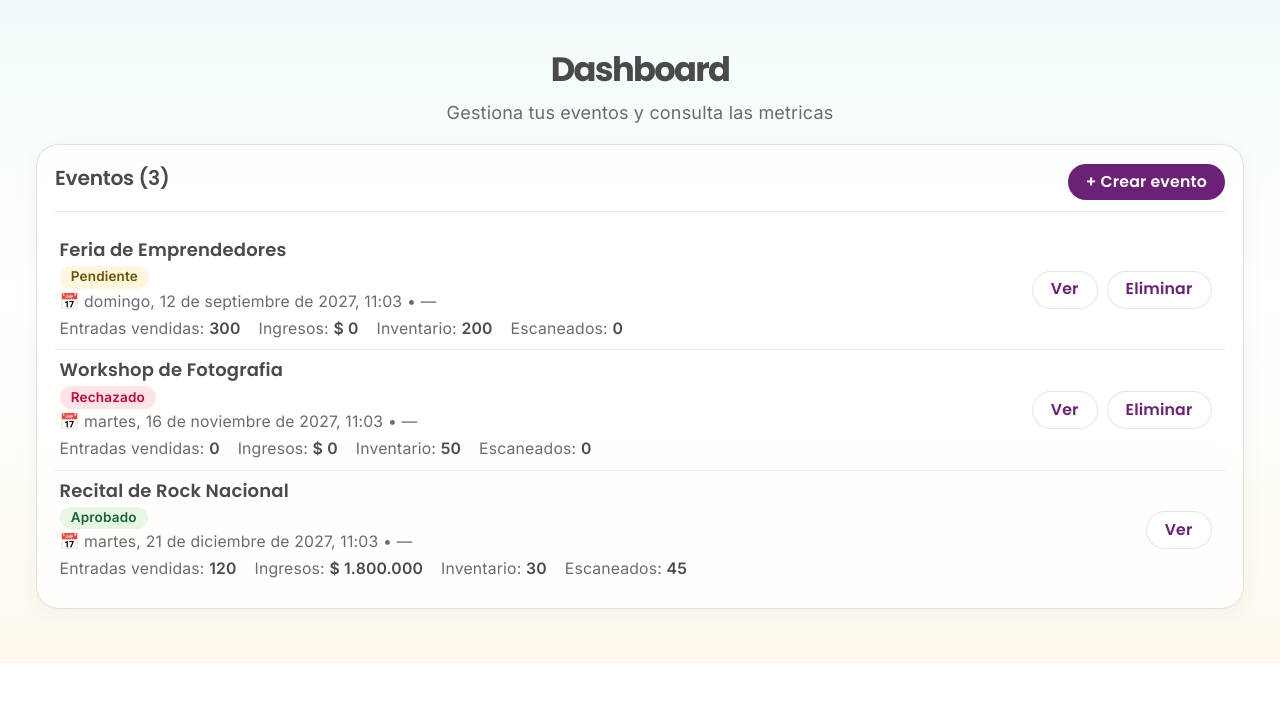
Scenario: OrganizerDashboard › explains it when an Admin approved the event in the meantime (409 event-approved) and reloads
The width and height of the screenshot is (1280, 720).
Check: the heading "Feria de Emprendedores" is shown, box [60,237,287,262]
Click the button with aria-label "eliminar feria de emprendedores" at (1159, 290), box [1107,271,1212,309]
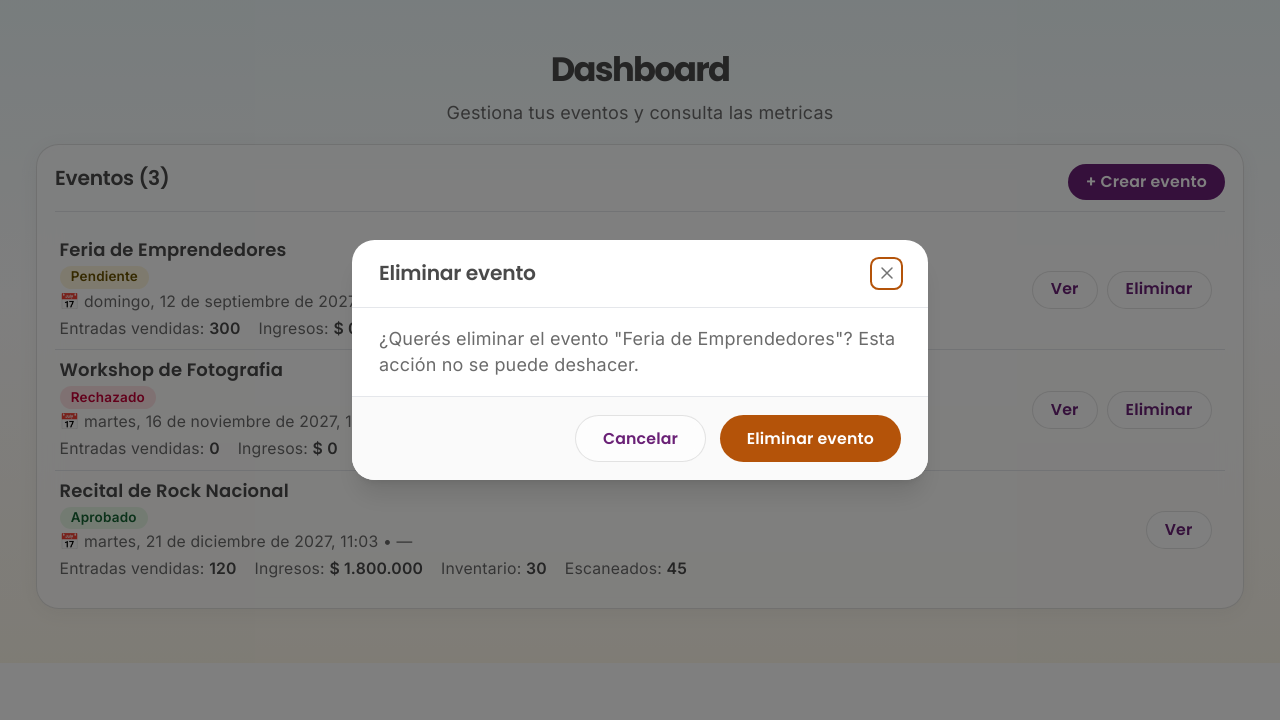
Click the button "Eliminar evento" at (810, 439), box [720,415,901,462]
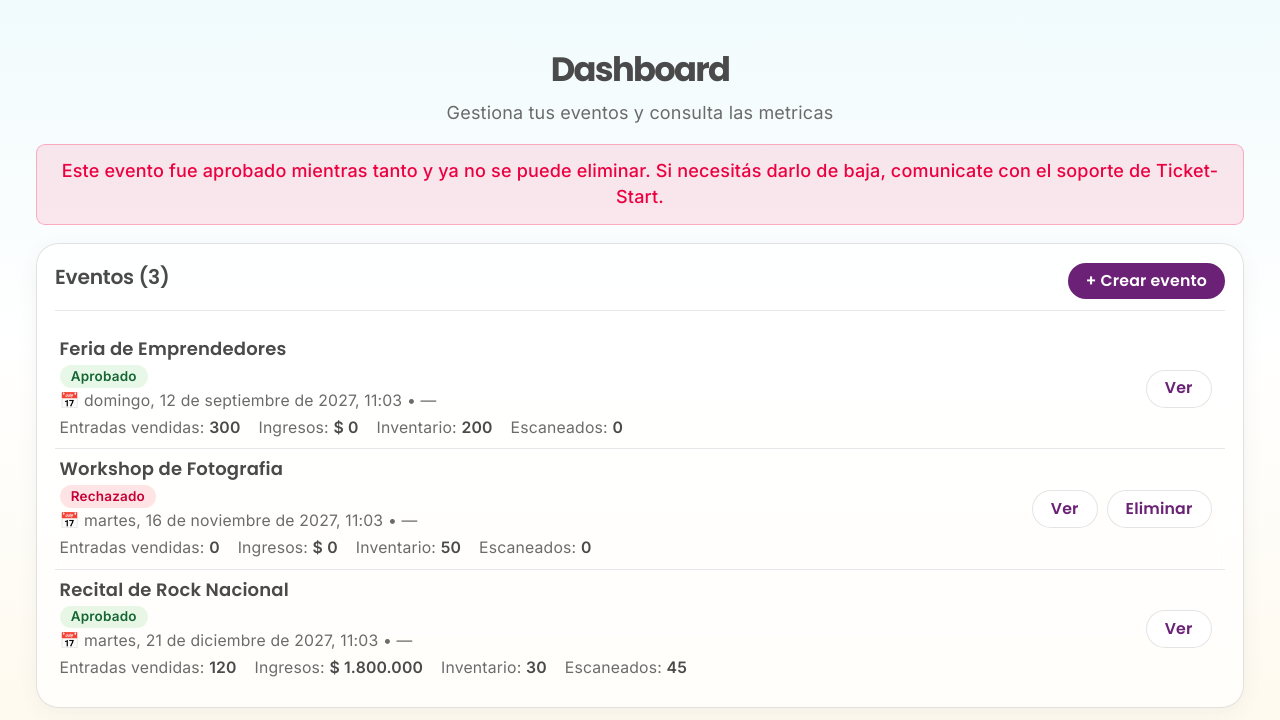
Check: the text "Este evento fue aprobado mientras tanto y ya no se puede eliminar. Si necesitás darlo de baja, comunicate con el soporte" is shown, box [62,160,1218,207]
